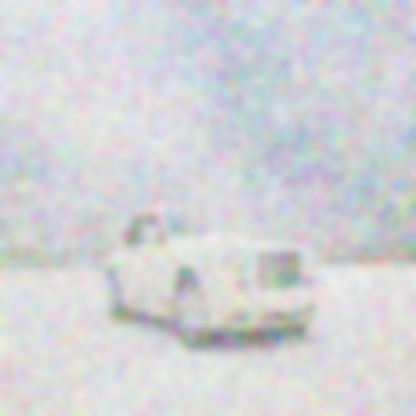Vehicle: (108, 211, 322, 349)
